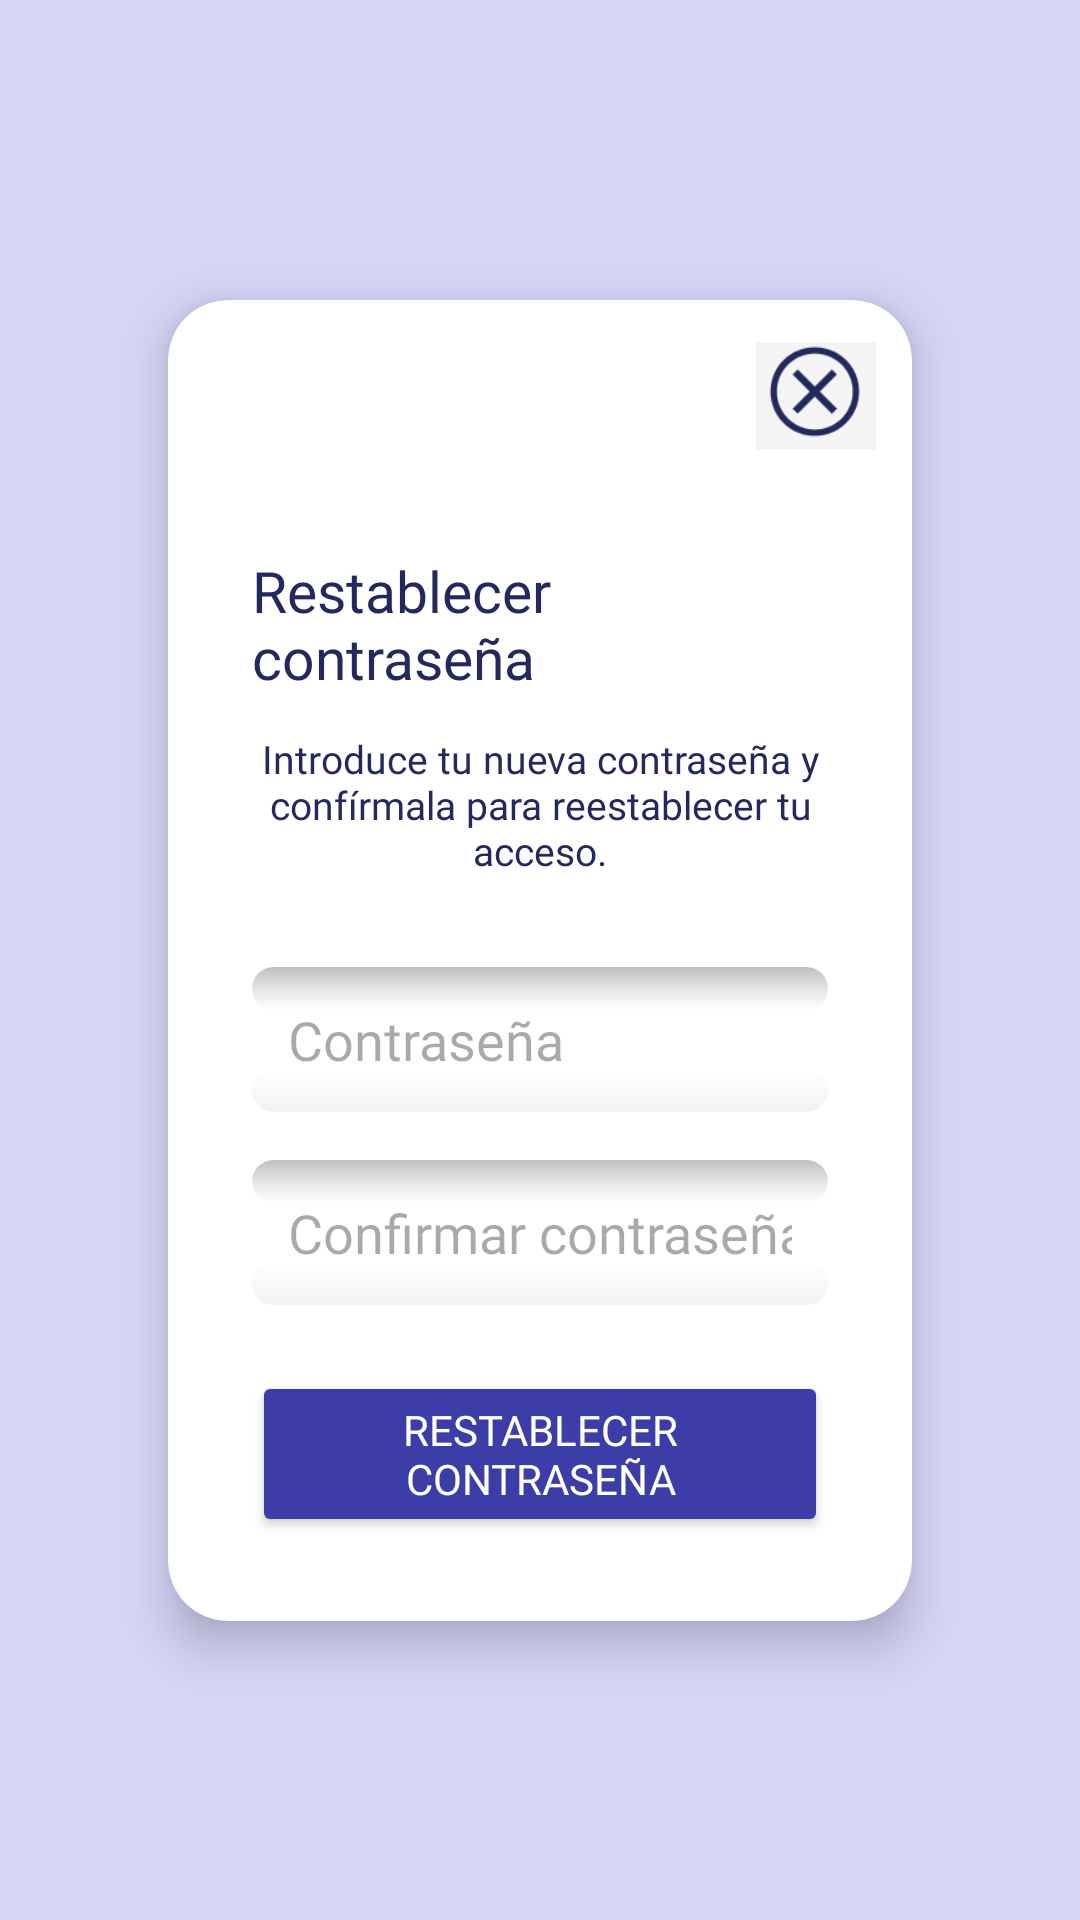

Screen size 1080px×1920px. Icon name, then its center in pixels as (x,y):
Cerrar: (816,396)
